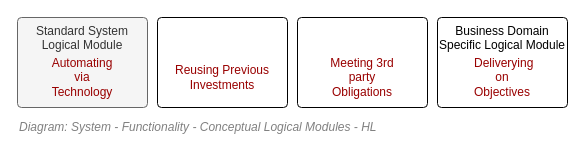
Image size: 585x155. Some labels were removed from this diagram. Here are the shapes that lost their labels. From the top down, the box of each, then its label:
(156, 16, 288, 108): Organisation Specific Logical Module
(296, 16, 428, 108): Sector Specific Logical Module
